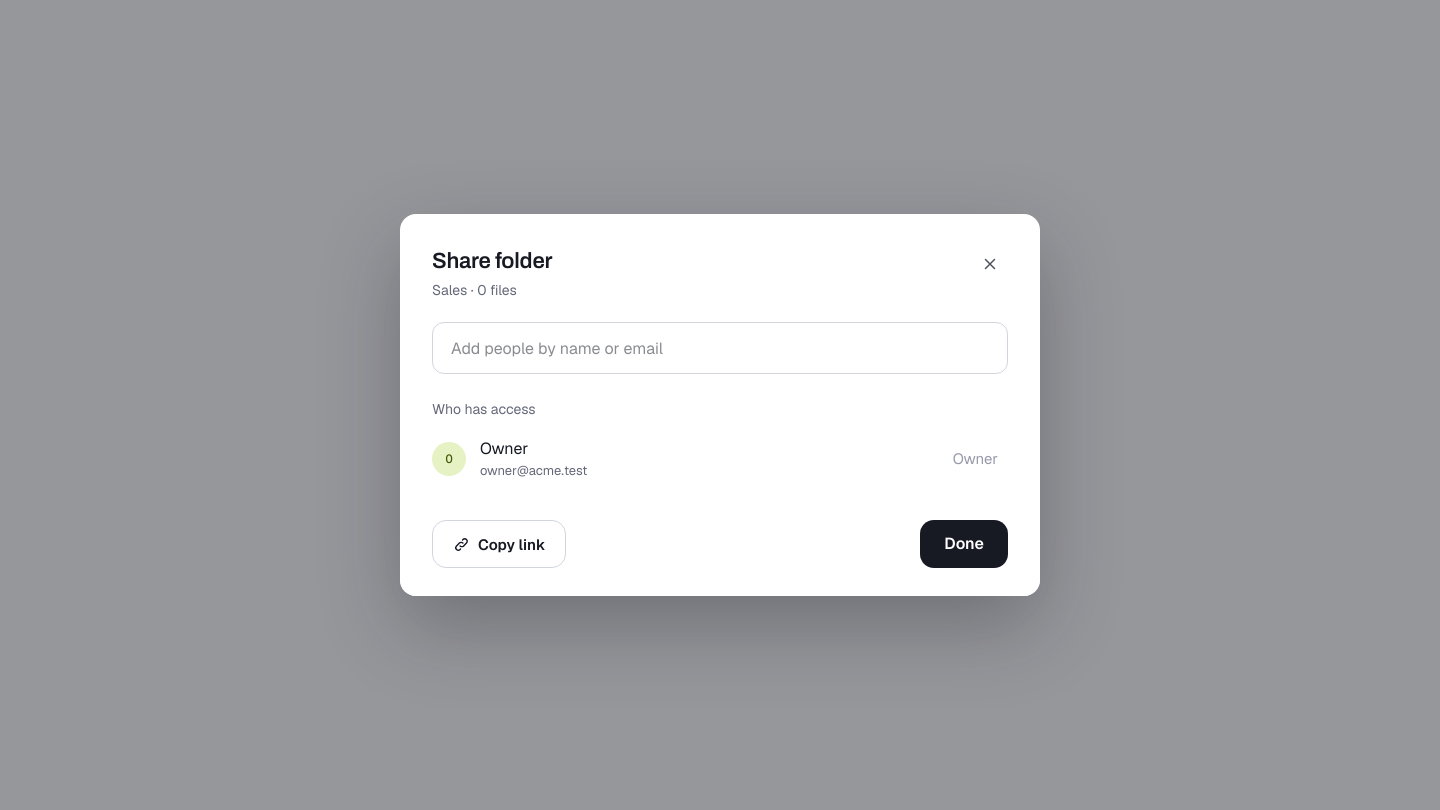
Test: ProjectShareDialog with Groups › never asks a Personal session for the Team's joining settings, which answer PERSONAL_RULE
Click the field labelled "Add people by name or email" at (720, 348), box [432,322,1008,374]
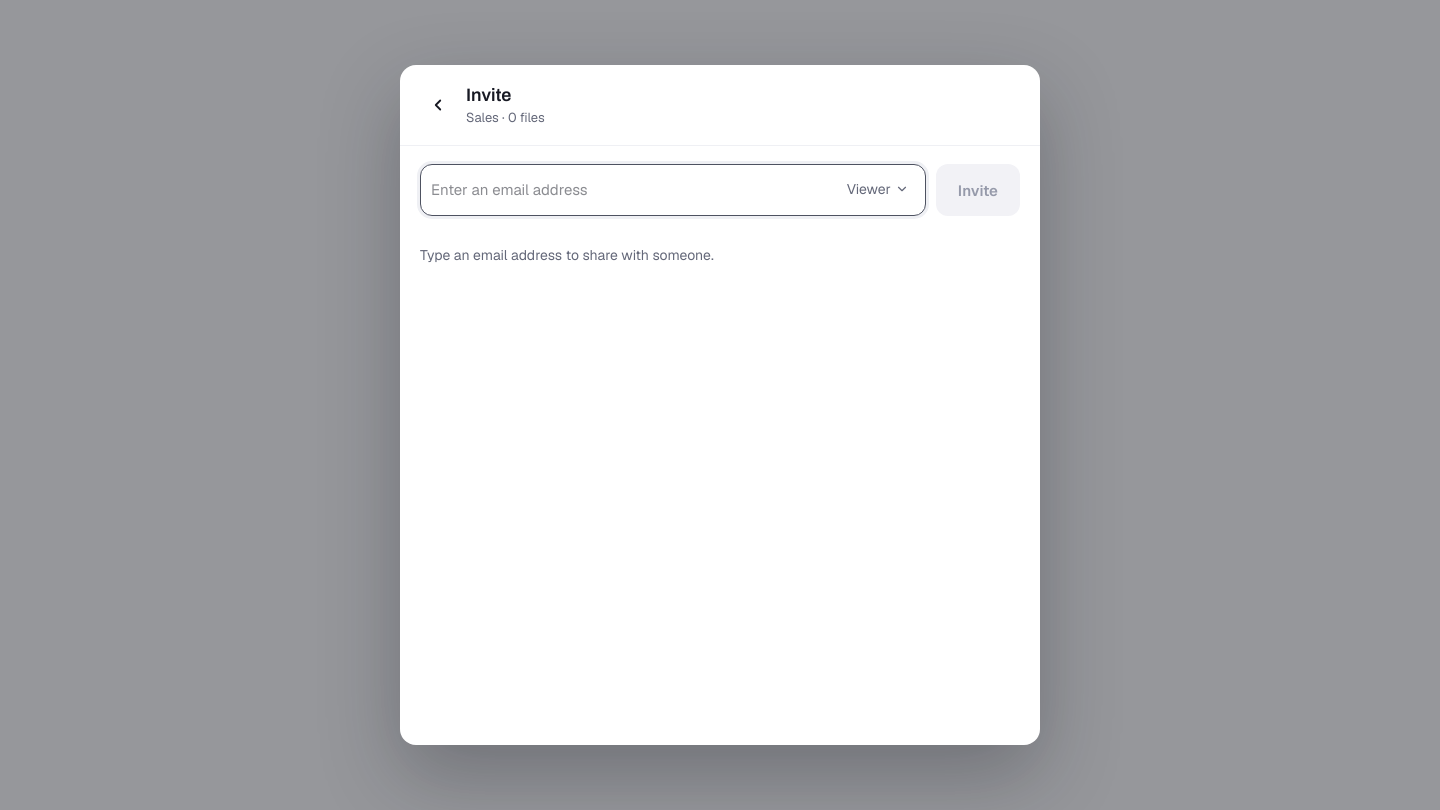
Check: the dropdown named "Invite as" shows "Viewer", box [837,173,917,205]
